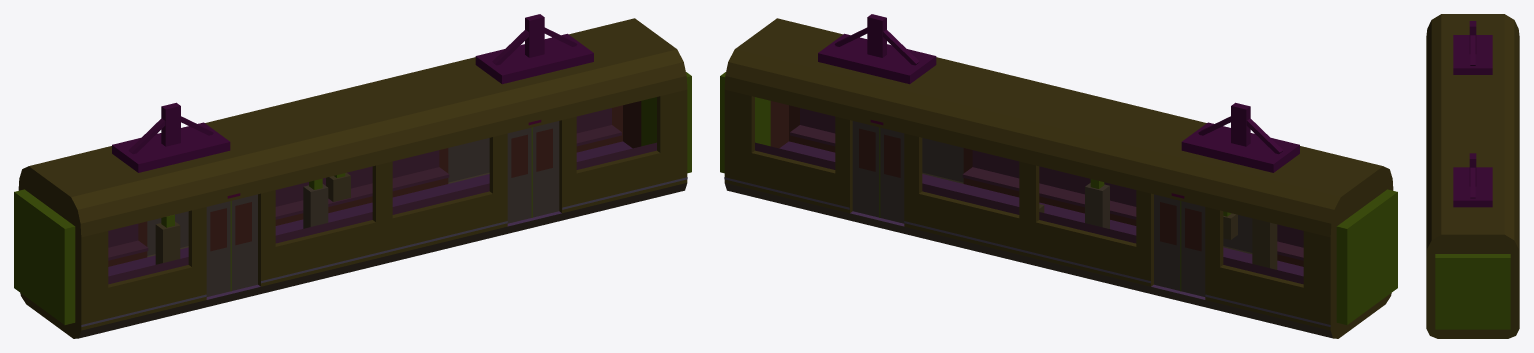
Rendered from monorail_mid.glb.
The picture shows the model from 3 angles, left to right: view 1: azimuth 30°, elevation 25°; view 2: azimuth 150°, elevation 25°; view 3: azimuth 270°, elevation 25°; orthographic projection. The views are drawn at different scales.
Visible parts, largest first — view 1: monorail_mid; view 2: monorail_mid; view 3: monorail_mid.
Part boxes in pixels (box(x1,y1,x2,y2)): monorail_mid: box(14, 14, 691, 338); monorail_mid: box(720, 14, 1397, 338); monorail_mid: box(1426, 14, 1519, 338).
Bounding box in the file's own units: 15 × 4.25 × 2.61.
